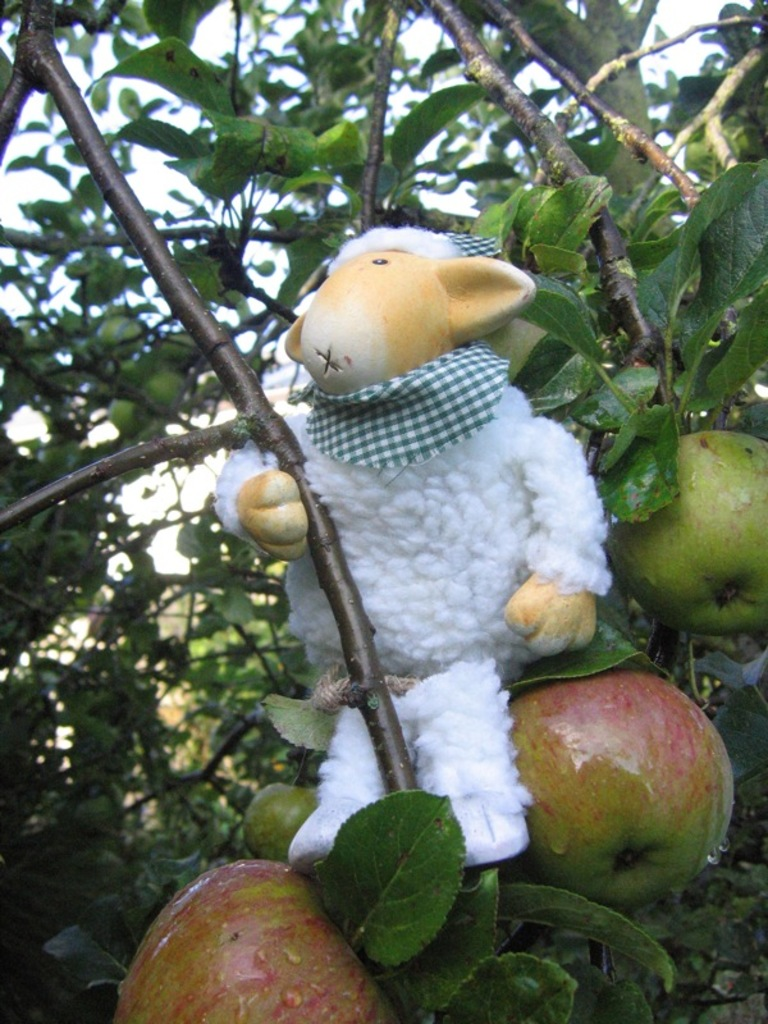Apple: (494, 672, 743, 922), (113, 858, 413, 1022), (602, 432, 766, 638), (239, 782, 320, 862)
